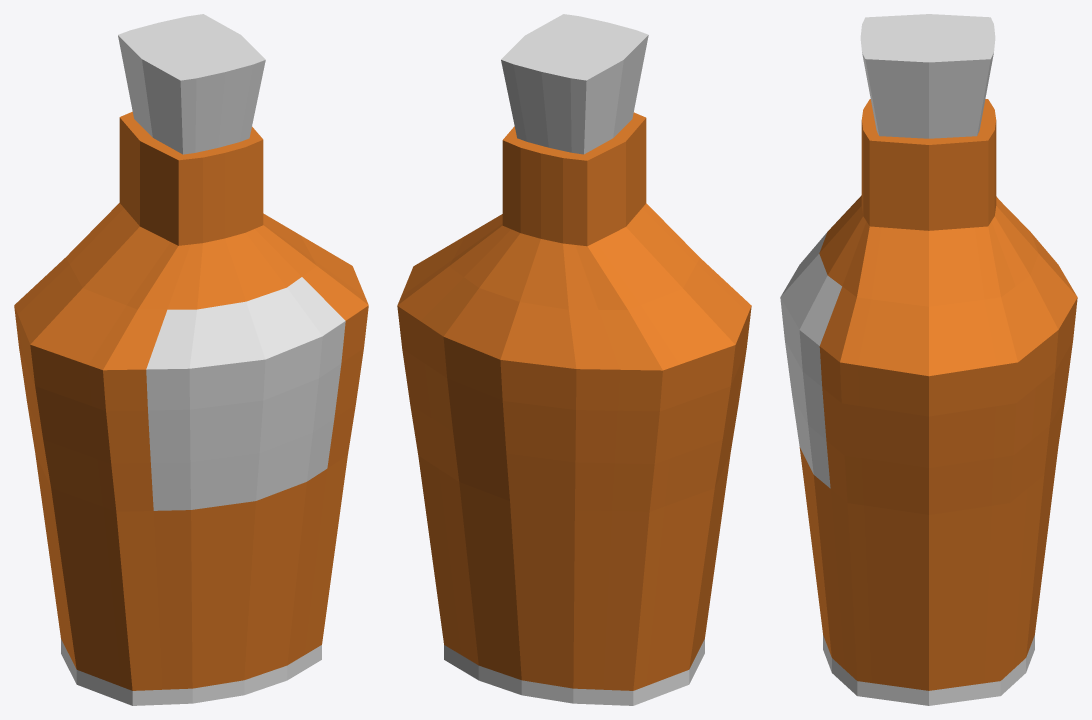
Rendered from gerus.fbx.
The picture shows the model from 3 angles, left to right: view 1: azimuth 30°, elevation 25°; view 2: azimuth 150°, elevation 25°; view 3: azimuth 270°, elevation 25°; orthographic projection.
Visible parts, largest first — view 1: Cube; view 2: Cube; view 3: Cube.
Boxes of the visible parts, <box> form: Cube: <box>14,14,368,705</box>; Cube: <box>397,14,751,705</box>; Cube: <box>780,14,1077,705</box>.
Bounding box in the file's own units: 516 × 932 × 411.
